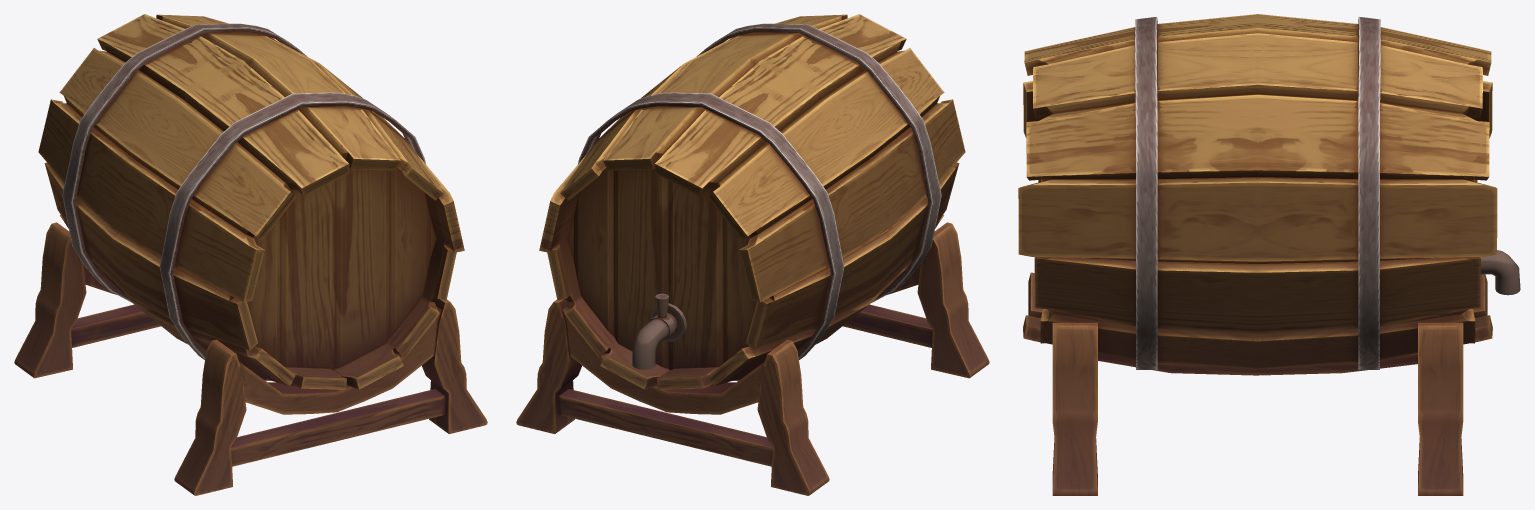
File: barrel.fbx
The picture shows the model from 3 angles, left to right: view 1: azimuth 30°, elevation 25°; view 2: azimuth 150°, elevation 25°; view 3: azimuth 270°, elevation 25°; orthographic projection. The views are drawn at different scales.
Parts seen in each view (by area): view 1: Circle, Circle.001, Cube.001, Circle.002, Cube.003, Cube.002; view 2: Circle, Circle.001, Cube.001, Circle.002, Cube.003, Cube.002, Circle.003; view 3: Circle, Cube.001, Circle.002, Cube.004, Circle.003.
Boxes of the visible parts, bbox=[...] form: Circle: bbox=[38, 14, 464, 389]; Circle.001: bbox=[247, 168, 436, 370]; Cube.001: bbox=[14, 222, 487, 495]; Circle.002: bbox=[62, 23, 425, 381]; Cube.003: bbox=[71, 304, 445, 466]; Cube.002: bbox=[83, 264, 441, 414]; Circle: bbox=[539, 14, 965, 389]; Circle.001: bbox=[567, 168, 756, 370]; Cube.001: bbox=[516, 222, 989, 495]; Circle.002: bbox=[578, 23, 941, 381]; Cube.003: bbox=[558, 304, 932, 466]; Cube.002: bbox=[562, 264, 920, 414]; Circle.003: bbox=[632, 303, 686, 369]; Circle: bbox=[1018, 14, 1497, 369]; Cube.001: bbox=[1052, 322, 1463, 495]; Circle.002: bbox=[1135, 16, 1380, 369]; Cube.004: bbox=[1098, 353, 1417, 375]; Circle.003: bbox=[1480, 250, 1520, 295].
Size of the model in its own units: 258 by 283 by 335.
